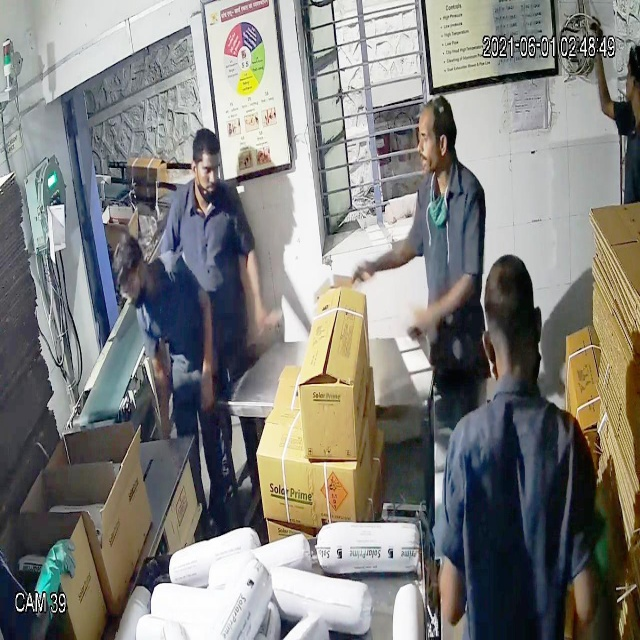Sin_gafas: (411, 124, 455, 154), (186, 159, 230, 187)
